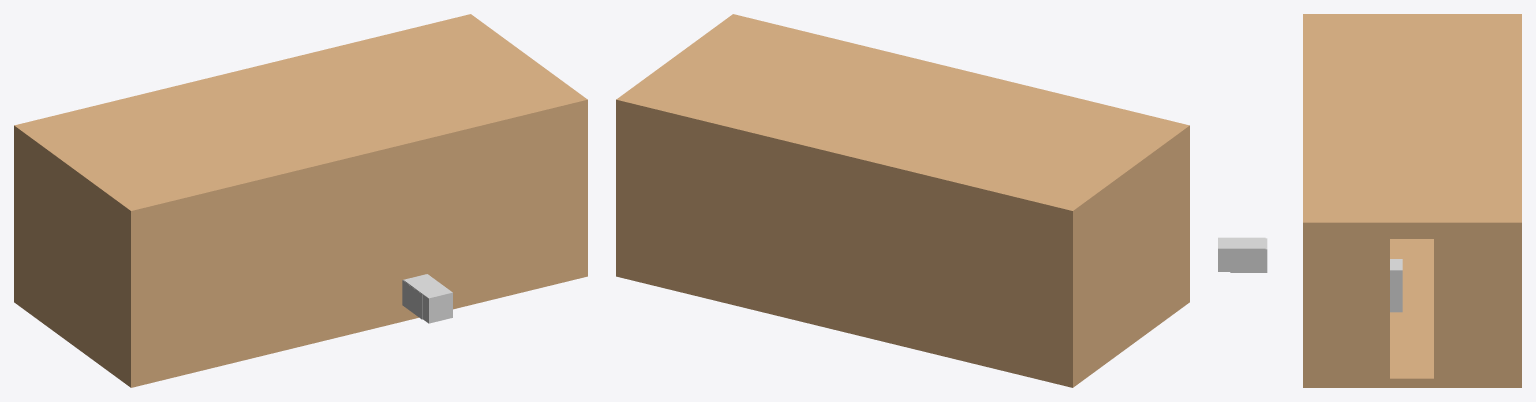
Rendered from babylon-import-anim1.glb.
The picture shows the model from 3 angles, left to right: view 1: azimuth 30°, elevation 25°; view 2: azimuth 150°, elevation 25°; view 3: azimuth 270°, elevation 25°; orthographic projection. The views are drawn at different scales.
Parts seen in each view (by area): view 1: Cube, Cube.003, Cube.002; view 2: Cube; view 3: Cube, Cube.003, Cube.001.
Part boxes in pixels (box(x1,y1,x2,y2)): Cube: box(14, 14, 587, 387); Cube.003: box(403, 274, 452, 323); Cube.002: box(402, 280, 422, 319); Cube: box(616, 14, 1189, 387); Cube: box(1303, 14, 1521, 387); Cube.003: box(1218, 237, 1265, 271); Cube.001: box(1390, 259, 1402, 312).
Size of the model in its own units: 37.89 by 14.02 by 23.32.
